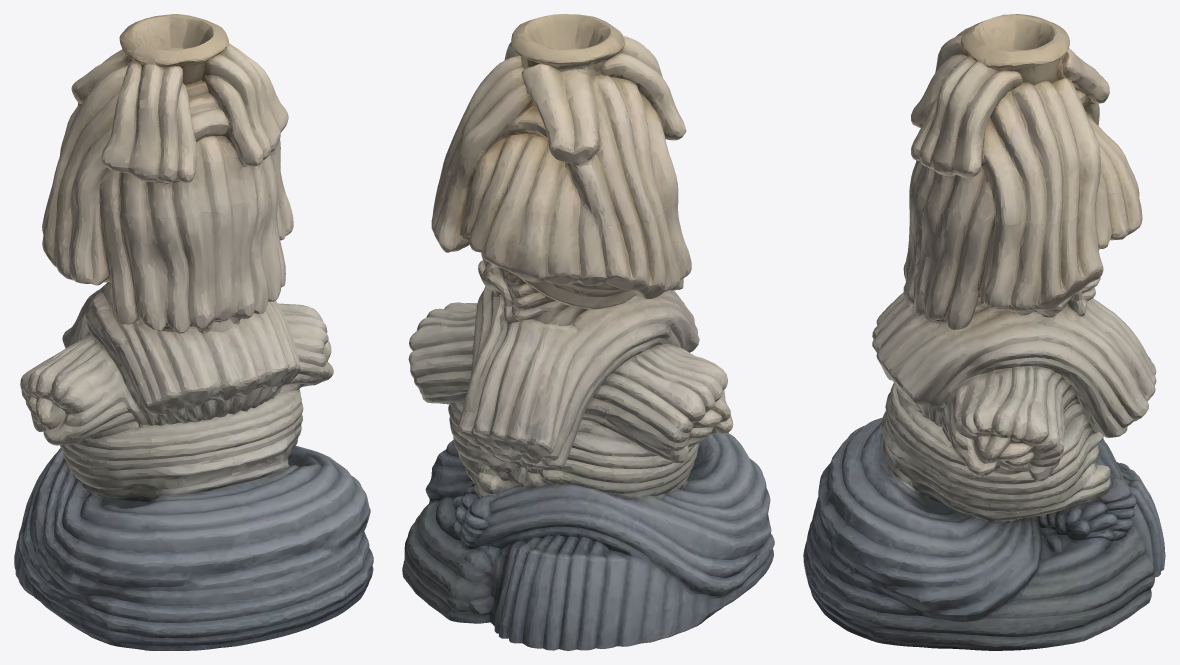
The model's file is 05_7_js_blob_candle4-opt-v26.glb.
3 views of the same model, side by side, from view 1: azimuth 30°, elevation 25°; view 2: azimuth 150°, elevation 25°; view 3: azimuth 270°, elevation 25° (orthographic). The views are drawn at different scales.
Visible parts, largest first — view 1: tripo_node_c4b6c598-1dfe-4f7f-97d7-fb400cd33945; view 2: tripo_node_c4b6c598-1dfe-4f7f-97d7-fb400cd33945; view 3: tripo_node_c4b6c598-1dfe-4f7f-97d7-fb400cd33945.
Part boxes in pixels (<box>): tripo_node_c4b6c598-1dfe-4f7f-97d7-fb400cd33945: <box>14,14,373,650</box>; tripo_node_c4b6c598-1dfe-4f7f-97d7-fb400cd33945: <box>402,14,774,650</box>; tripo_node_c4b6c598-1dfe-4f7f-97d7-fb400cd33945: <box>803,14,1165,650</box>.
Bounding box in the file's own units: 0.1194 × 0.2 × 0.1203.
1 material, 1 textured.
